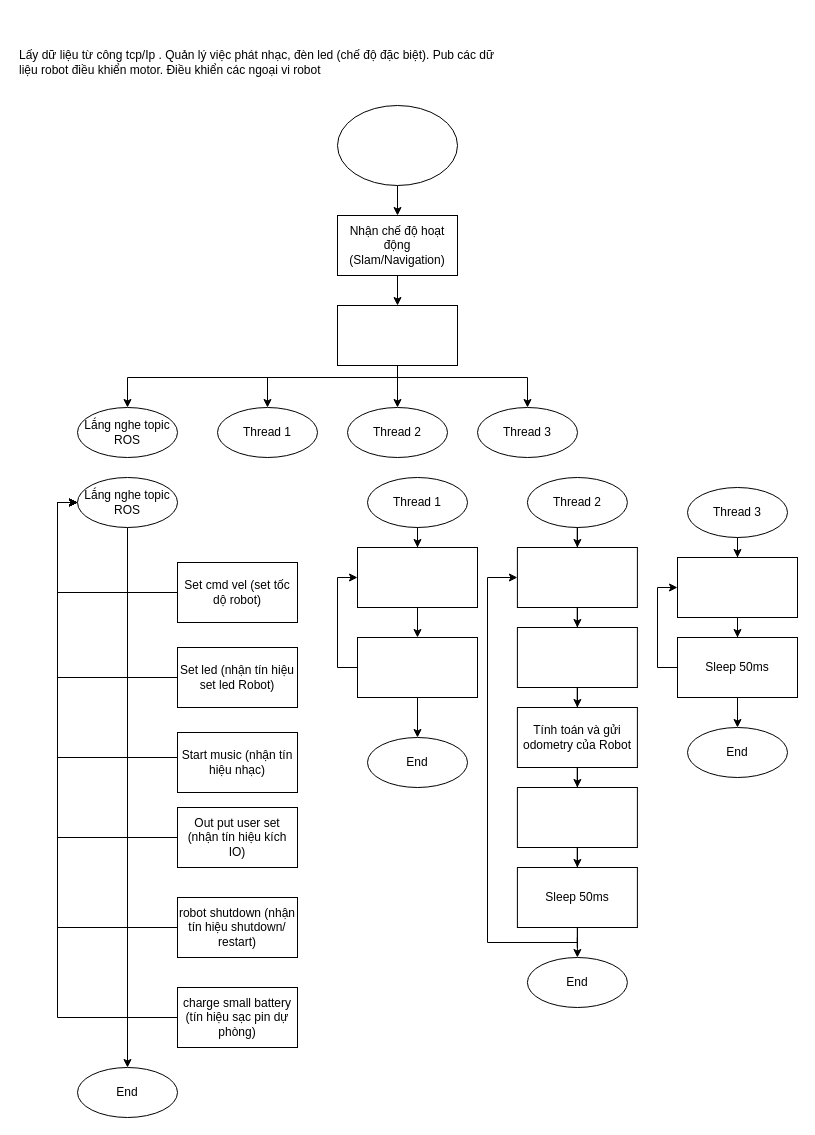
Some shapes in this 815 by 1135 pixel diagram are drawn without their labels. Here are the shapes that lost their labels. From the top down, the centre of each, then its label:
At (397,145): "Start".
At (397,335): "Khởi tạo và kết nối TCP/IP client".
At (417,577): "Gửi các thông tin trạng thái robot".
At (576,577): "Xử lý dữ liệu điều khiển của Robot ( Speed, Led, I/O)".
At (737,587): "Đọc dữ liệu chứa trong cổng tcp/ip".
At (417,667): "Sleep 1s".
At (576,657): "Gửi dữ liệu qua cổng TCP/IP".
At (576,817): "Gửi chuyển vị hệ tọa độ Hook".
